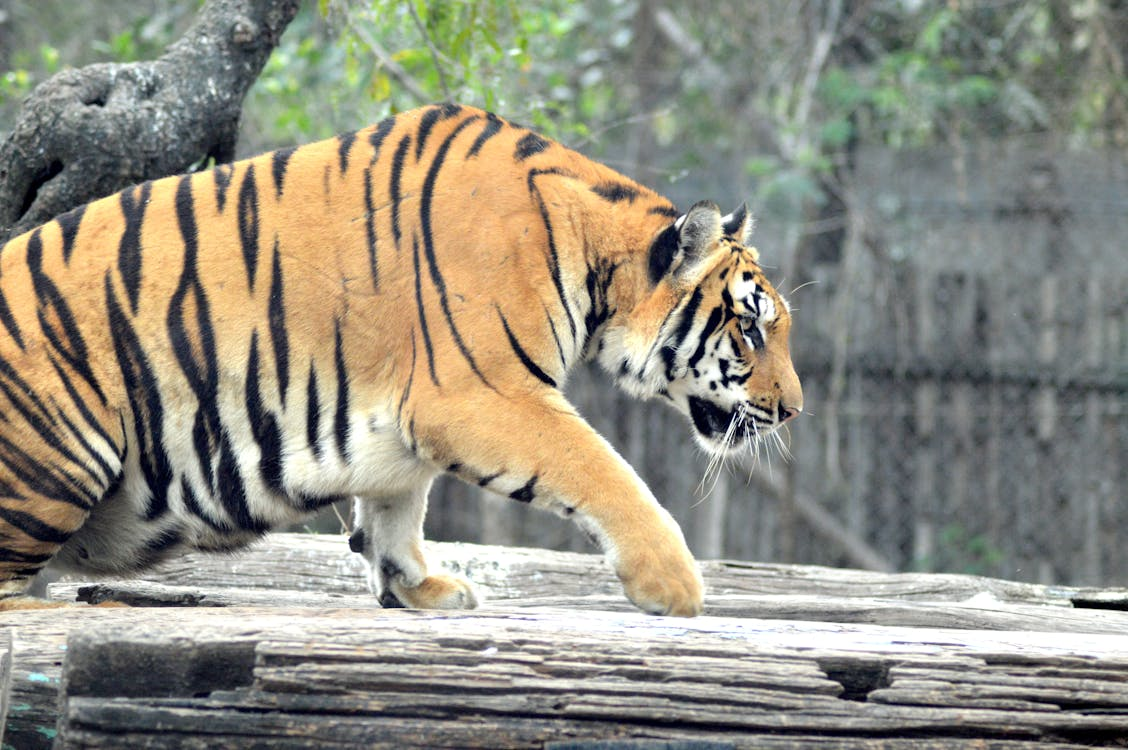Tiger: (132, 101, 805, 606)
